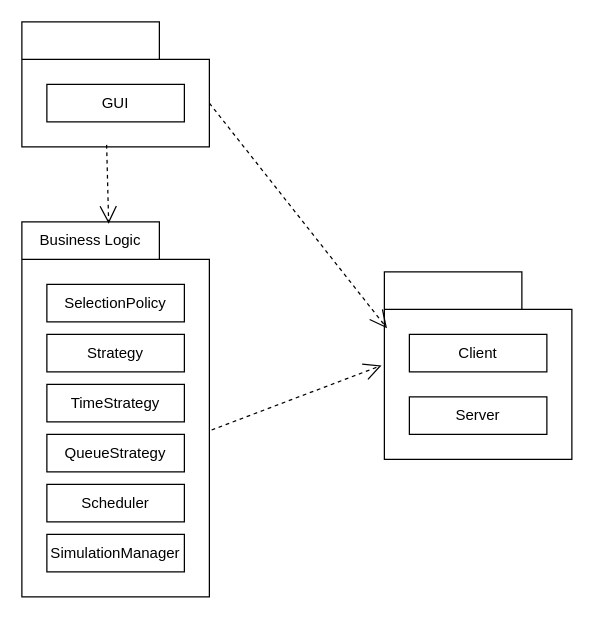
Image size: 594x619. Some labels were removed from this diagram. Each missing label, with the box of its shape:
Data Model: (383, 271, 572, 459)
Graphical User Interface: (21, 21, 209, 147)
